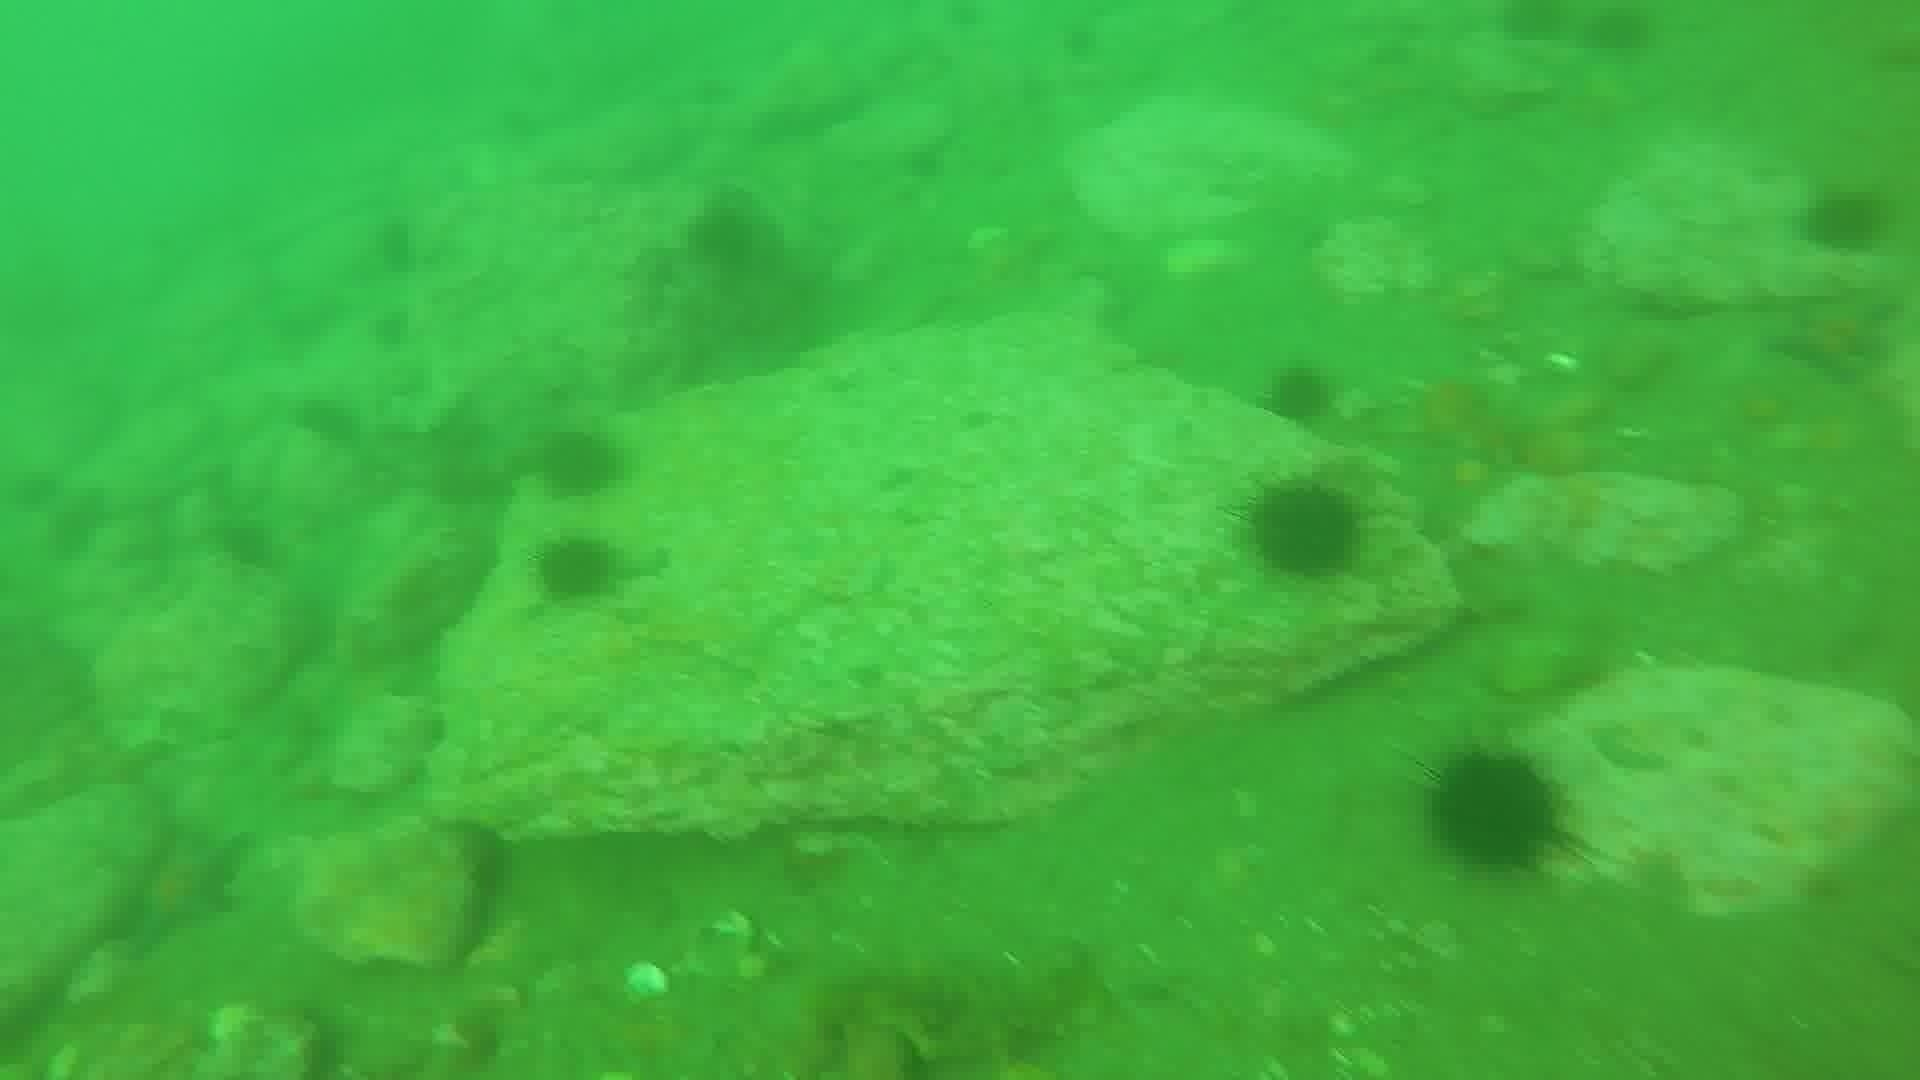echinus: (1420, 742, 1571, 877), (1240, 476, 1367, 584), (680, 193, 782, 282), (529, 531, 622, 609), (533, 425, 626, 502), (1797, 185, 1892, 258), (1258, 361, 1338, 431), (1578, 4, 1662, 62), (211, 512, 284, 576), (291, 392, 364, 452), (1495, 1, 1559, 47), (367, 305, 417, 355)
holothurian: (891, 940, 1101, 1073)
starfish: (115, 822, 253, 955), (1764, 285, 1898, 385)
